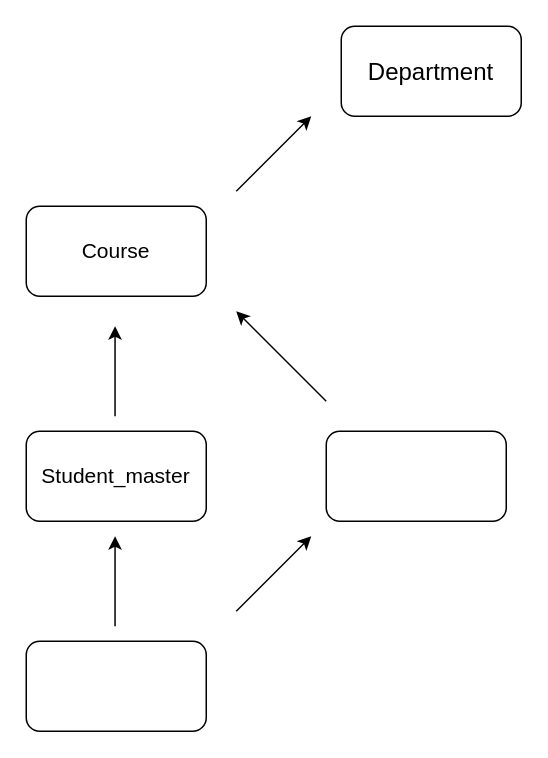
This 548x758 diagram has some shape labels left out. The shapes that lost their labels are listed below. From the top down, each one's centre as x and y in pixels, then its label:
At point 415,475: "Subject_master".
At point 115,685: "Student_marks".
